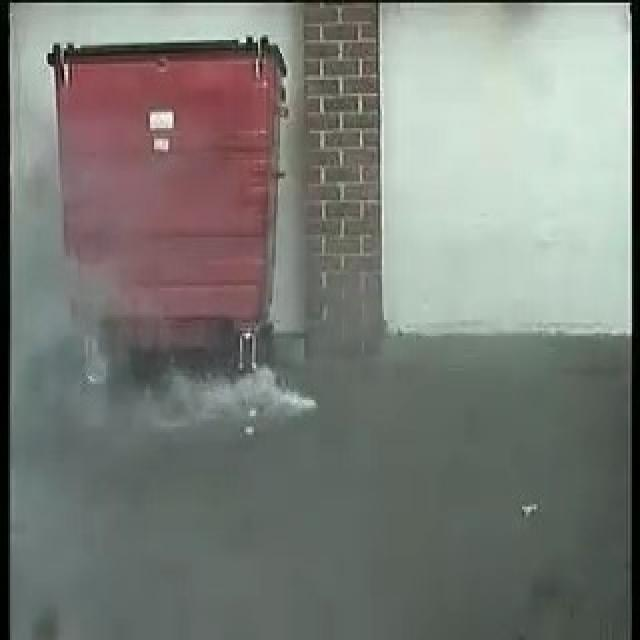smoke: (125, 330, 314, 433)
